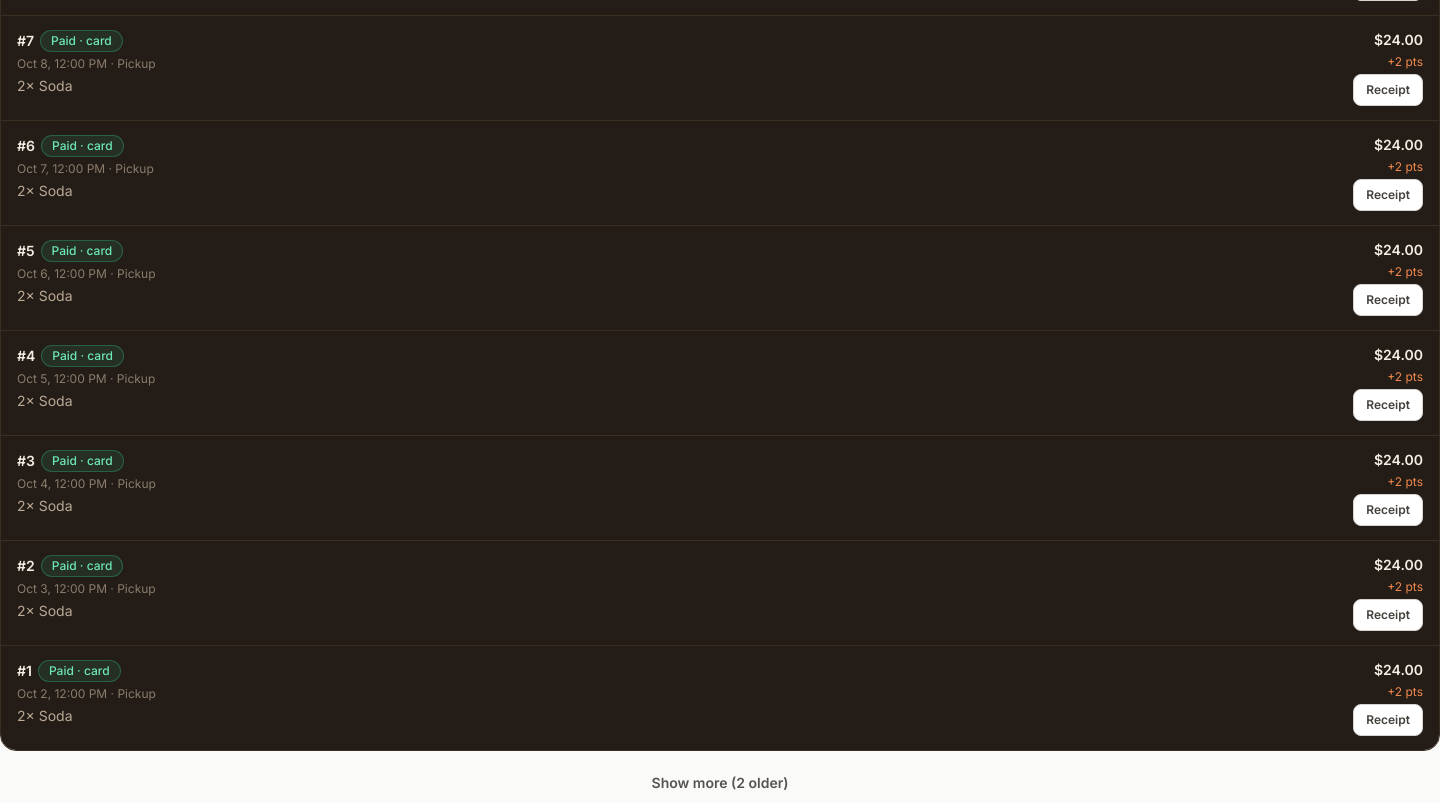
Test: OrderHistory › paginates, showing more orders on request
(page scrolled)
Step 1. Click the button "Show more (2 older)" → x=720, y=783, box [636, 763, 804, 802]
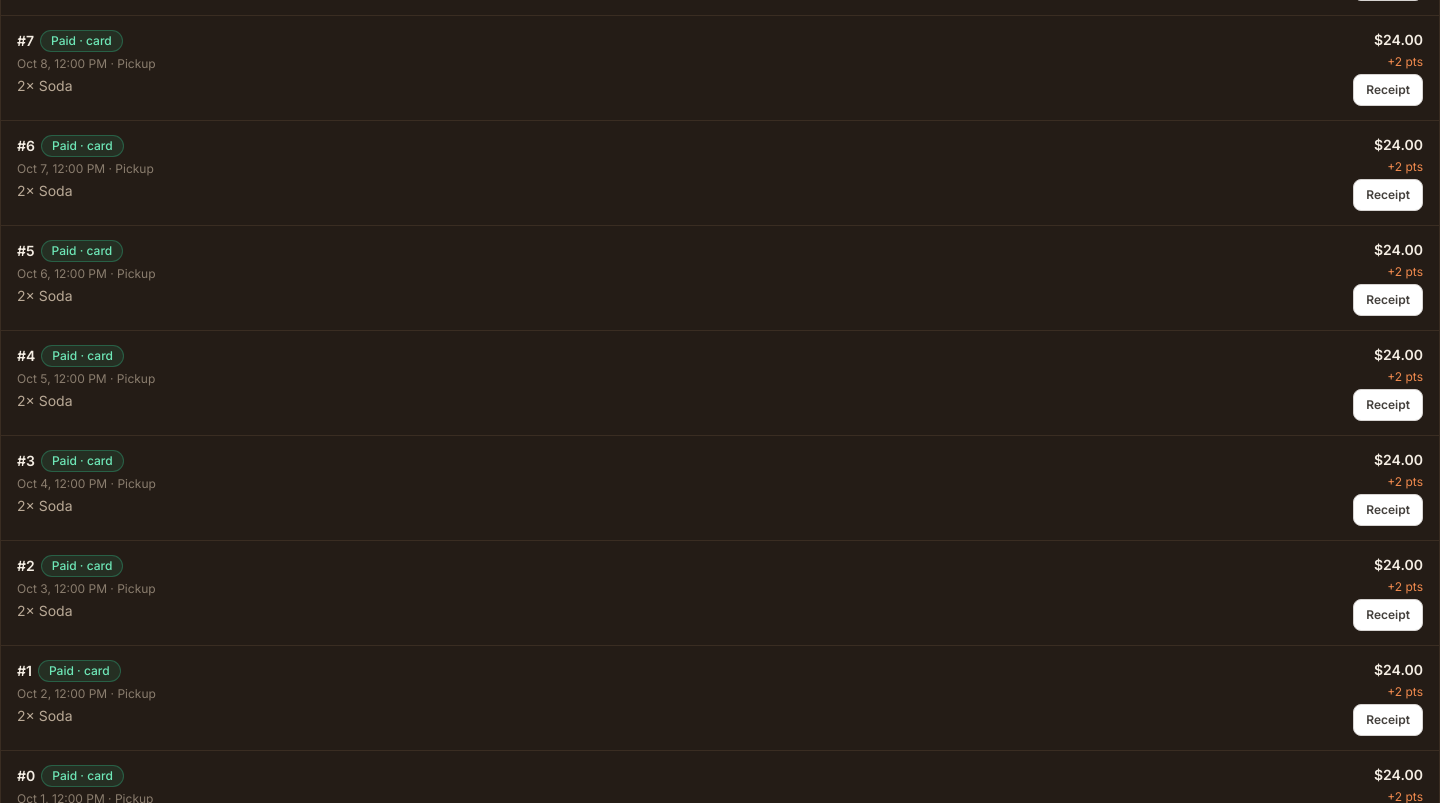
Result: the button "Show more" is gone
